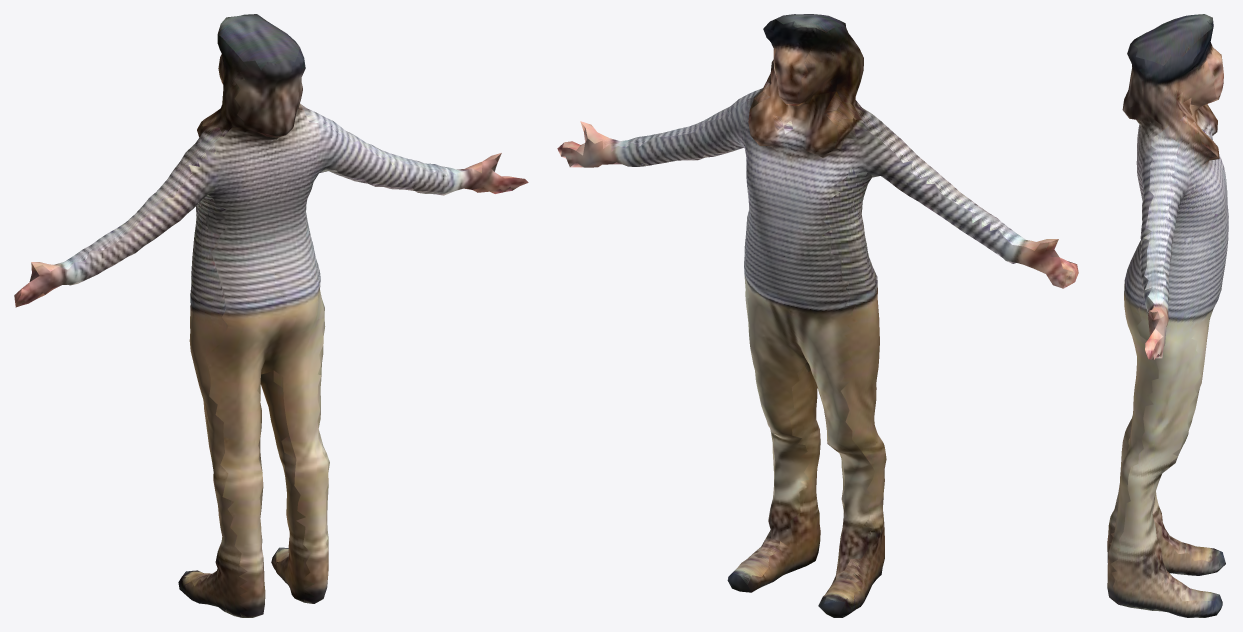
The picture shows the model from 3 angles, left to right: view 1: azimuth 30°, elevation 25°; view 2: azimuth 150°, elevation 25°; view 3: azimuth 270°, elevation 25°; orthographic projection. The views are drawn at different scales.
Parts seen in each view (by area): view 1: world; view 2: world; view 3: world.
Part boxes in pixels (<box>): world: <box>14,14,528,617</box>; world: <box>557,14,1078,617</box>; world: <box>1107,14,1228,617</box>.
Size of the model in its own units: 0.9395 by 1 by 0.1929.
Materials: 1 (1 with a texture image).
